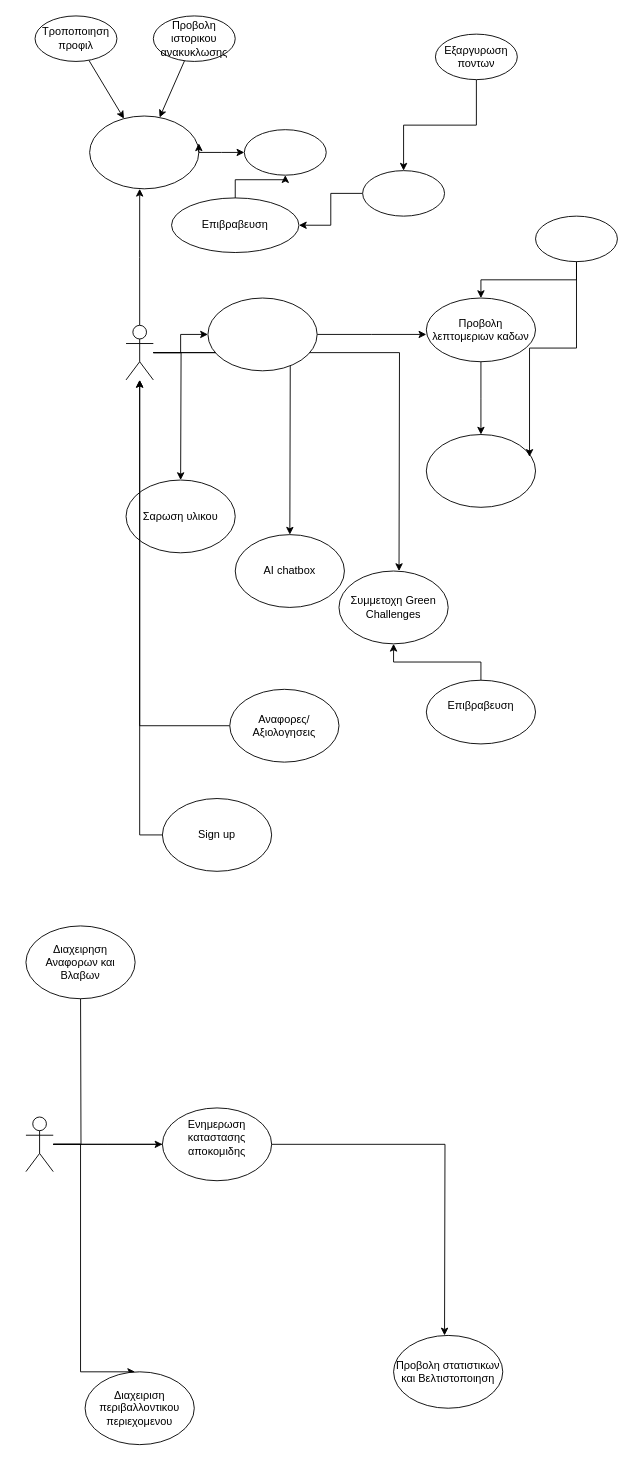
The diagram is 633 pixels wide and 1461 high, and some of its shapes have lost their labels. The shapes that lost their labels are listed below. From the top down, each one's box as (x1, y1, x2, y2) in pixels, then its label:
(89, 115, 199, 189): Διαχειριση Λογαριασμου
(243, 129, 326, 175): Προβολη υπολοιπου ποντων
(362, 170, 445, 216): Χρηση κουπονιων
(535, 215, 617, 262): Σχεδιασμός Διαδρομής
(125, 324, 153, 380): user
(207, 297, 317, 371): Προβολη τοποθεσιων καδων
(425, 434, 536, 507): Εξυπνη πρασινη διαδρομη
(25, 1116, 53, 1172): Employee
